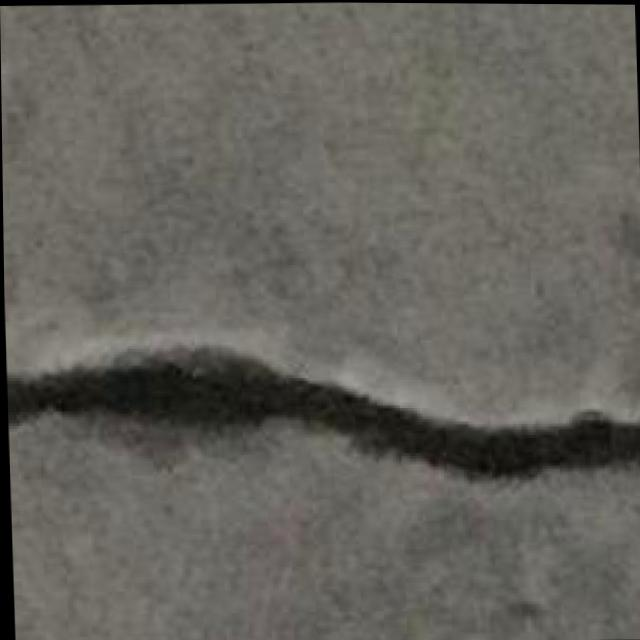Crack: (3, 297, 640, 518)
